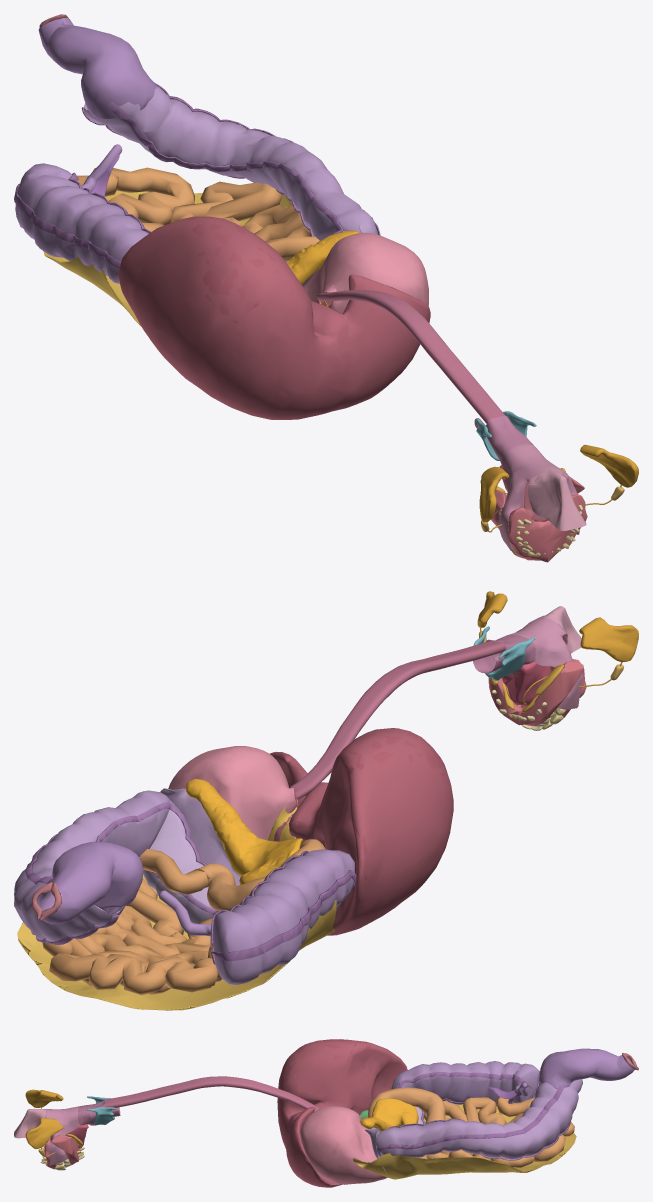
The model's file is digestive.glb.
3 renders of one model, top to bottom at view 1: azimuth 30°, elevation 25°; view 2: azimuth 150°, elevation 25°; view 3: azimuth 270°, elevation 25°, orthographic. The views are drawn at different scales.
Parts seen in each view (by area): view 1: 肝, 降结肠, 空肠, 升结肠, 乙状结肠, 胃, 食管, 牙龈, 独立带, 口咽, 鼻咽, 肝右后叶上段（第7段） (+7 smaller); view 2: 肝, 空肠, 升结肠, 降结肠, 胃, 乙状结肠, 大网膜, 食管, 胰, 横结肠, 牙龈, 结肠系膜 (+13 smaller); view 3: 肝, 降结肠, 胃, 升结肠, 大网膜, 空肠, 乙状结肠, 食管, 十二指肠, 胰, 系膜带, 口咽 (+8 smaller).
Part boxes in pixels (x1,y1,x2,y2): 肝: [118, 216, 430, 419]; 降结肠: [83, 82, 378, 240]; 空肠: [77, 167, 319, 259]; 升结肠: [15, 163, 148, 283]; 乙状结肠: [38, 18, 157, 118]; 胃: [303, 232, 428, 313]; 食管: [317, 290, 505, 423]; 牙龈: [491, 477, 587, 562]; 独立带: [68, 102, 343, 234]; 口咽: [498, 444, 579, 550]; 鼻咽: [528, 467, 586, 530]; 肝右后叶上段（第7段）: [192, 222, 278, 323]; 肝: [270, 728, 453, 935]; 空肠: [42, 849, 221, 995]; 升结肠: [212, 849, 354, 984]; 降结肠: [14, 790, 170, 941]; 胃: [168, 746, 297, 840]; 乙状结肠: [37, 841, 143, 924]; 大网膜: [17, 874, 336, 1010]; 食管: [290, 641, 505, 799]; 胰: [186, 779, 303, 884]; 横结肠: [143, 800, 340, 923]; 牙龈: [488, 659, 586, 726]; 结肠系膜: [160, 788, 240, 885]; 肝: [277, 1039, 407, 1187]; 降结肠: [375, 1073, 582, 1158]; 胃: [300, 1106, 387, 1184]; 升结肠: [391, 1061, 539, 1103]; 大网膜: [353, 1100, 576, 1179]; 空肠: [418, 1097, 574, 1168]; 乙状结肠: [539, 1048, 634, 1088]; 食管: [105, 1076, 319, 1111]; 十二指肠: [368, 1087, 445, 1122]; 胰: [360, 1098, 418, 1131]; 系膜带: [377, 1085, 564, 1156]; 口咽: [44, 1106, 79, 1165].
Size of the model in its own units: 0.338 by 0.2523 by 1.17.
